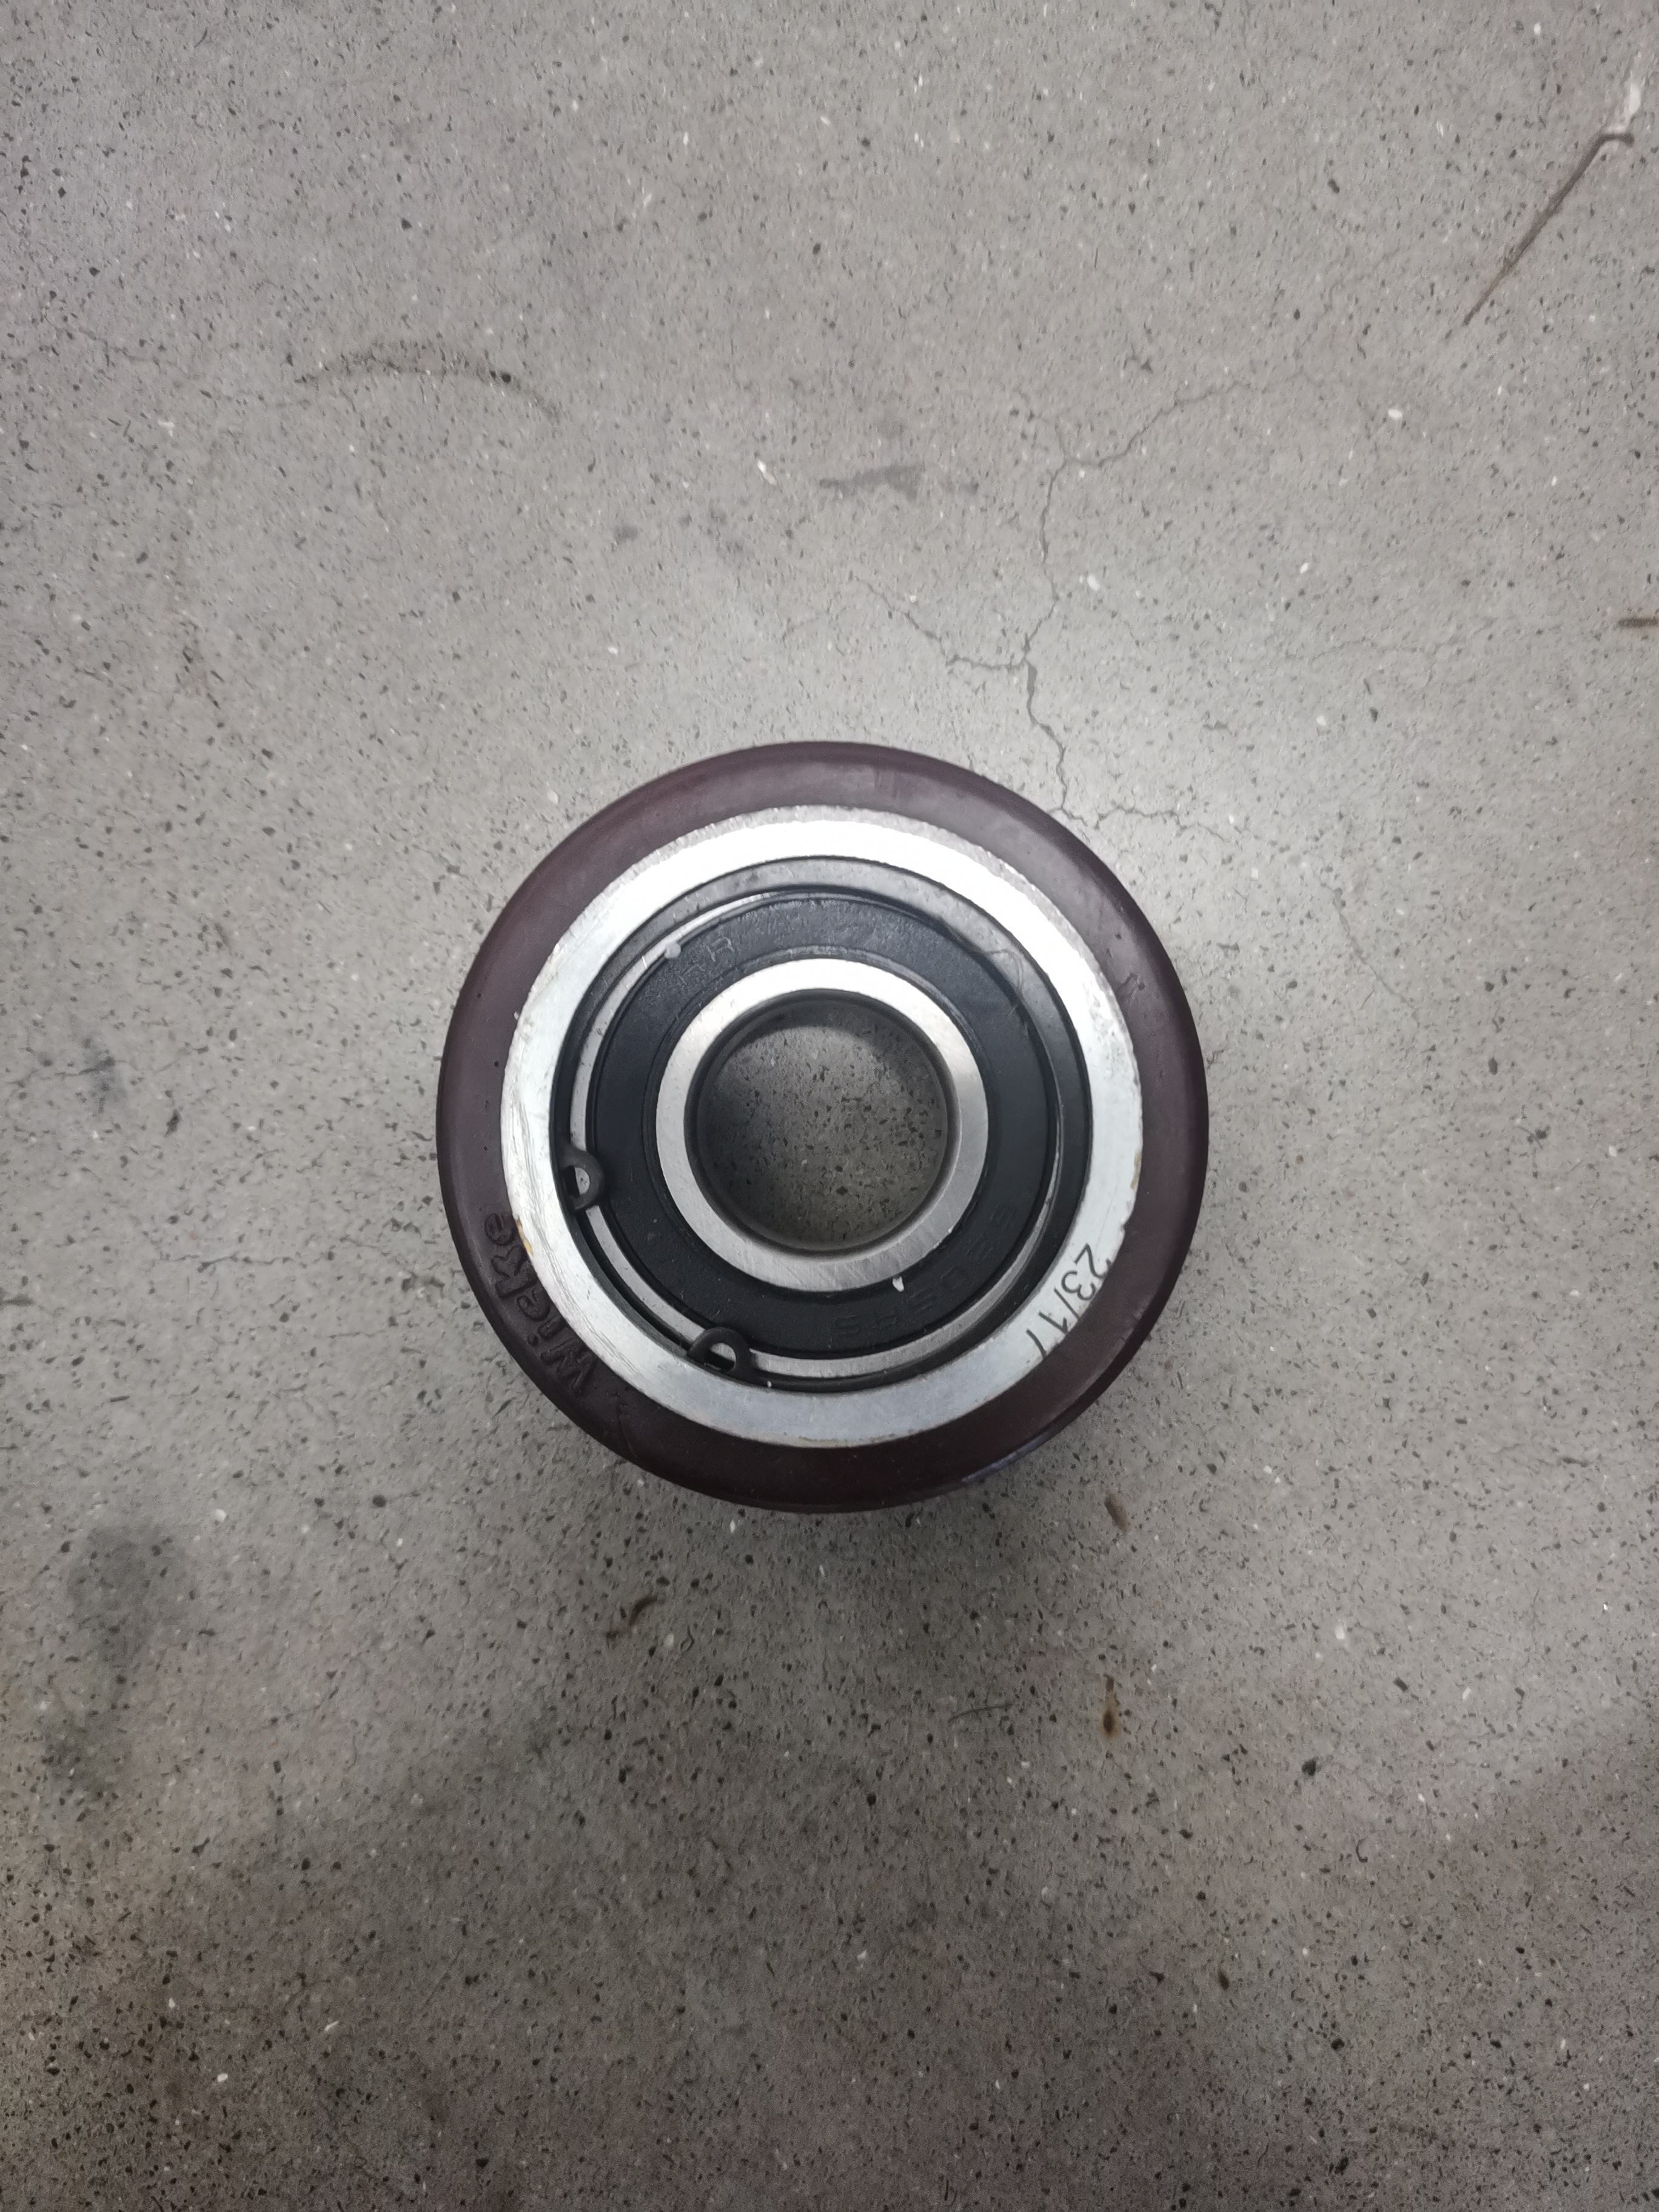good_wheel: (397, 725, 1270, 1559)
